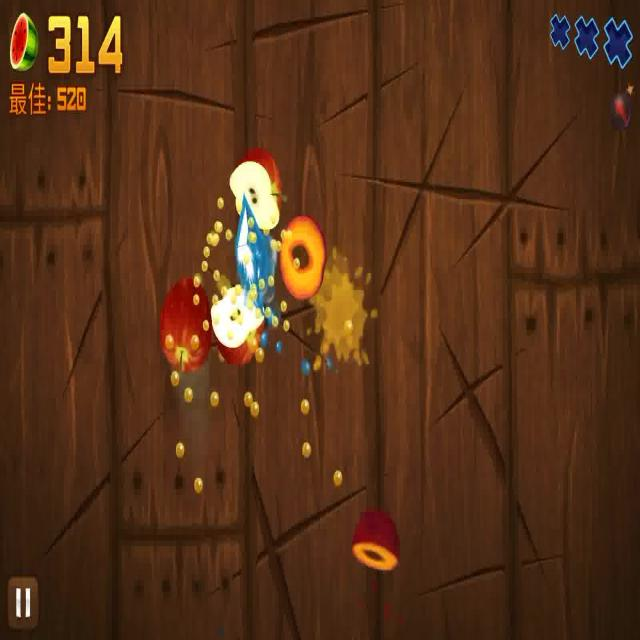fruit: (160, 274, 217, 373), (208, 285, 269, 366), (227, 152, 282, 236), (278, 210, 326, 301), (352, 507, 401, 578)
